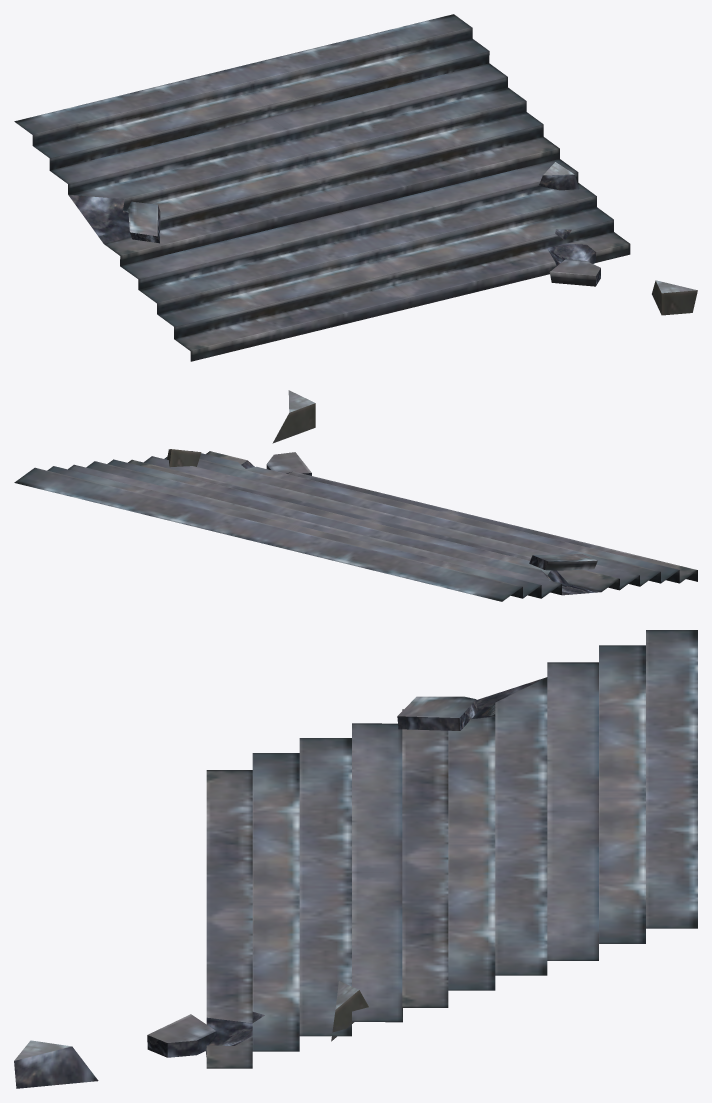
The model's file is yw_anxizhidi_louti03.FBX.
3 views of the same model, one above another, from view 1: azimuth 30°, elevation 25°; view 2: azimuth 150°, elevation 25°; view 3: azimuth 270°, elevation 25° (orthographic). The views are drawn at different scales.
Visible parts, largest first — view 1: yw_anxizhidi_louti03; view 2: yw_anxizhidi_louti03; view 3: yw_anxizhidi_louti03.
Boxes of the visible parts, x1,y1,x2,y2 form: yw_anxizhidi_louti03: (14, 14, 697, 361); yw_anxizhidi_louti03: (14, 390, 697, 601); yw_anxizhidi_louti03: (14, 630, 697, 1088).
Bounding box in the file's own units: 511 × 131 × 495.
